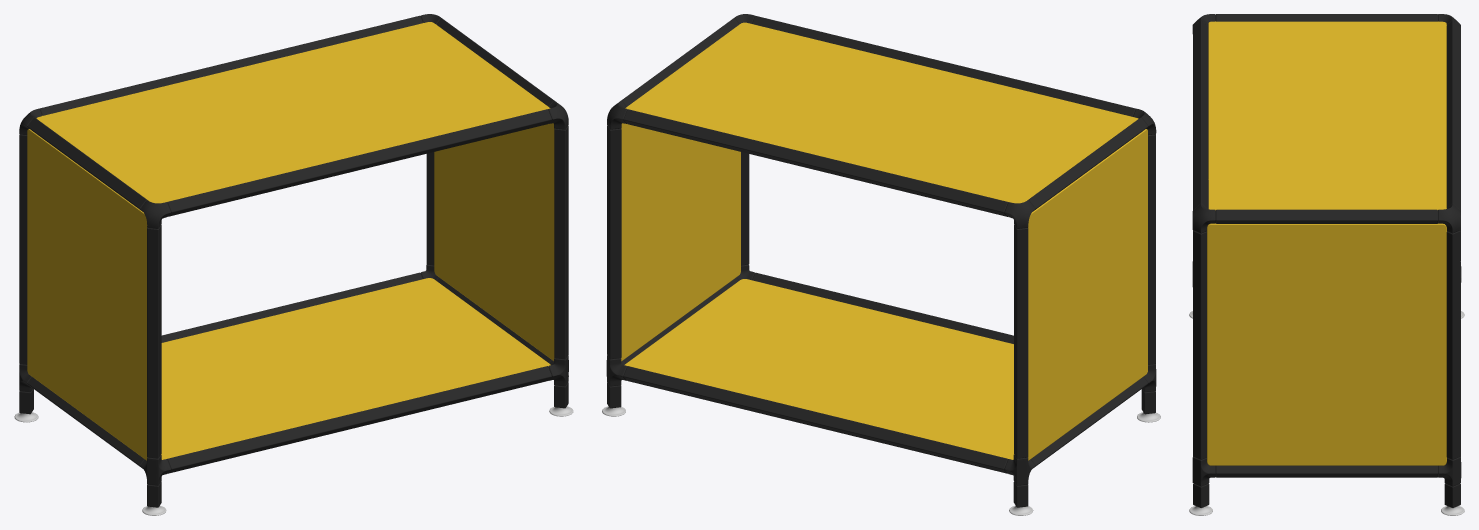
3 views of the same model, side by side, from view 1: azimuth 30°, elevation 25°; view 2: azimuth 150°, elevation 25°; view 3: azimuth 270°, elevation 25° (orthographic).
Parts seen in each view (by area): view 1: 729x374x420; view 2: 729x374x420; view 3: 729x374x420.
Boxes of the visible parts, x1,y1,x2,y2 form: 729x374x420: [14, 14, 573, 515]; 729x374x420: [602, 14, 1160, 515]; 729x374x420: [1189, 14, 1464, 515].
Size of the model in its own units: 0.8189 by 0.5591 by 0.4633.
